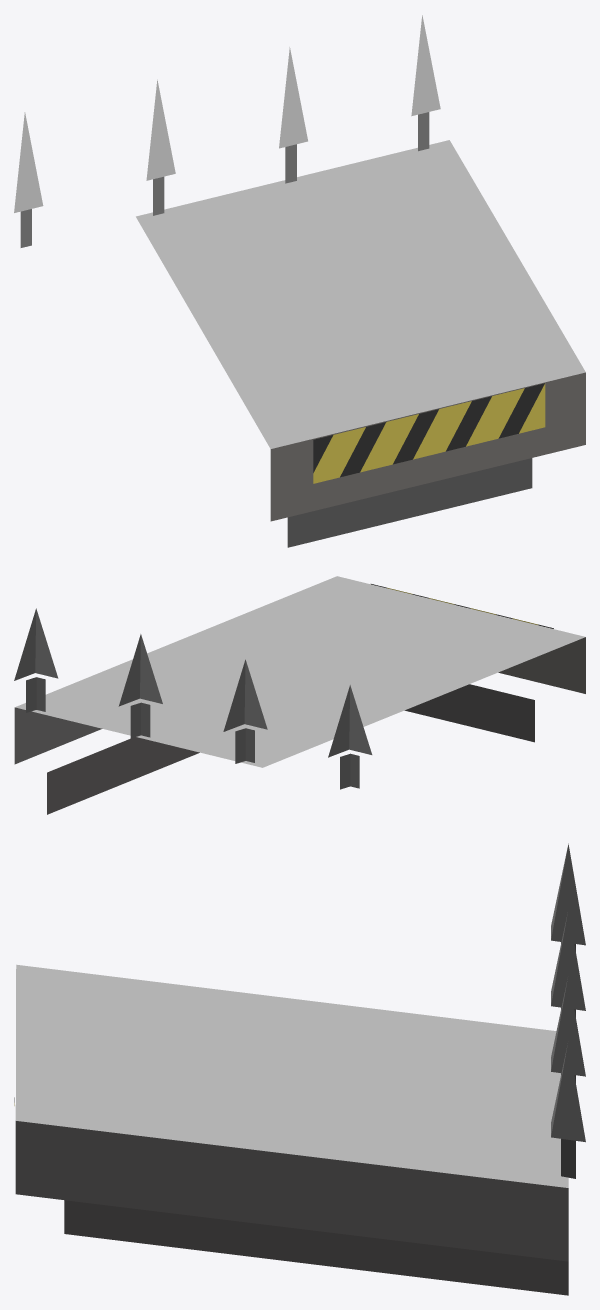
File: Spike_Field_02.FBX
3 views of the same model, one above another, from view 1: azimuth 30°, elevation 25°; view 2: azimuth 150°, elevation 25°; view 3: azimuth 270°, elevation 25° (orthographic). The views are drawn at different scales.
Parts seen in each view (by area): view 1: Spike_Field_02; view 2: Spike_Field_02; view 3: Spike_Field_02.
Boxes of the visible parts, x1,y1,x2,y2 form: Spike_Field_02: (14, 15, 585, 547); Spike_Field_02: (14, 576, 585, 814); Spike_Field_02: (14, 843, 585, 1295).
Size of the model in its own units: 10.32 by 5.65 by 11.17.
